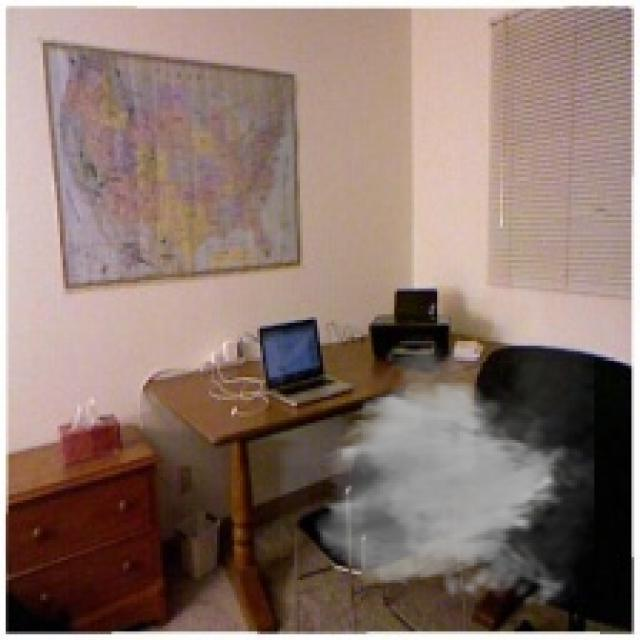Smoke: (312, 343, 594, 614)
